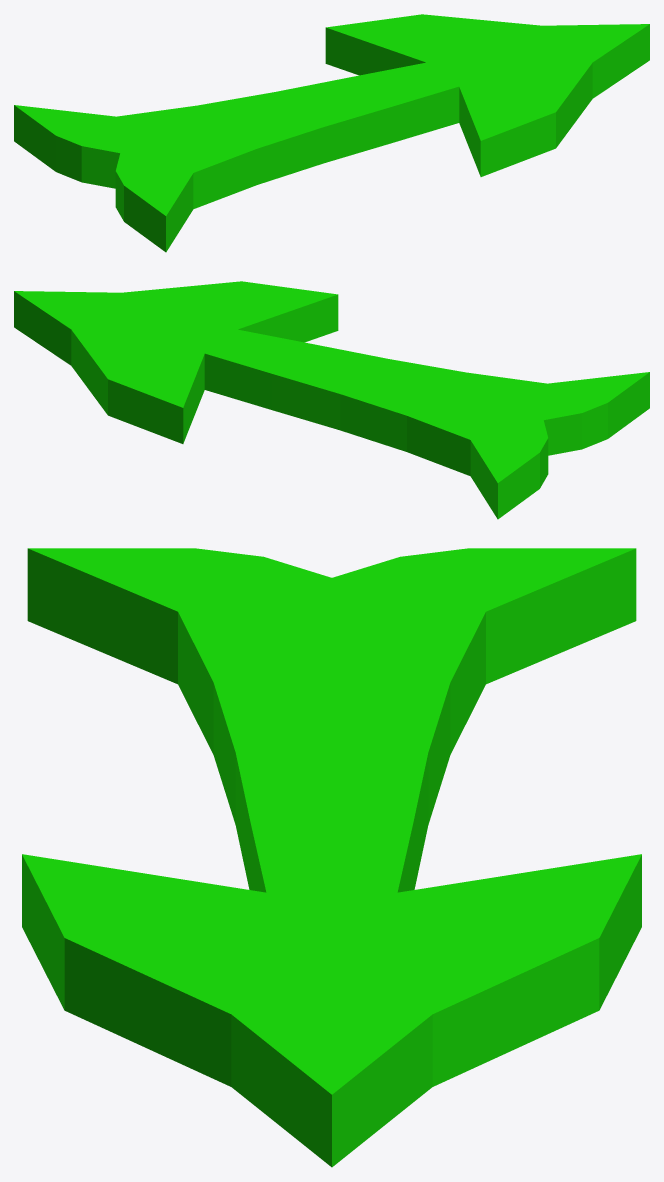
The model's file is arrow.fbx.
The picture shows the model from 3 angles, top to bottom: view 1: azimuth 30°, elevation 25°; view 2: azimuth 150°, elevation 25°; view 3: azimuth 270°, elevation 25°; orthographic projection. The views are drawn at different scales.
Parts seen in each view (by area): view 1: Plane.001; view 2: Plane.001; view 3: Plane.001.
Part boxes in pixels (<box>): Plane.001: <box>14,14,649,252</box>; Plane.001: <box>14,281,649,519</box>; Plane.001: <box>22,548,641,1167</box>.
Size of the model in its own units: 32.23 by 2 by 15.46.
